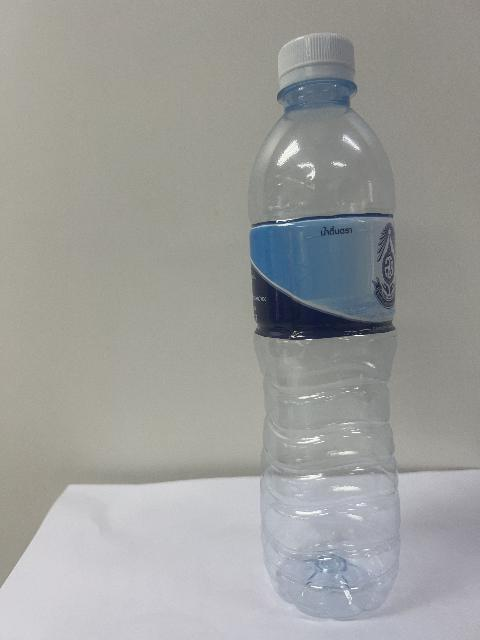bottle: (249, 34, 399, 619)
